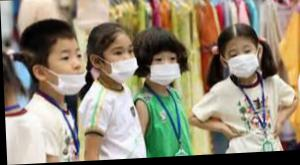OK: (146, 53, 181, 89), (224, 47, 258, 79)
WRONG: (42, 45, 87, 93), (102, 44, 138, 83)
